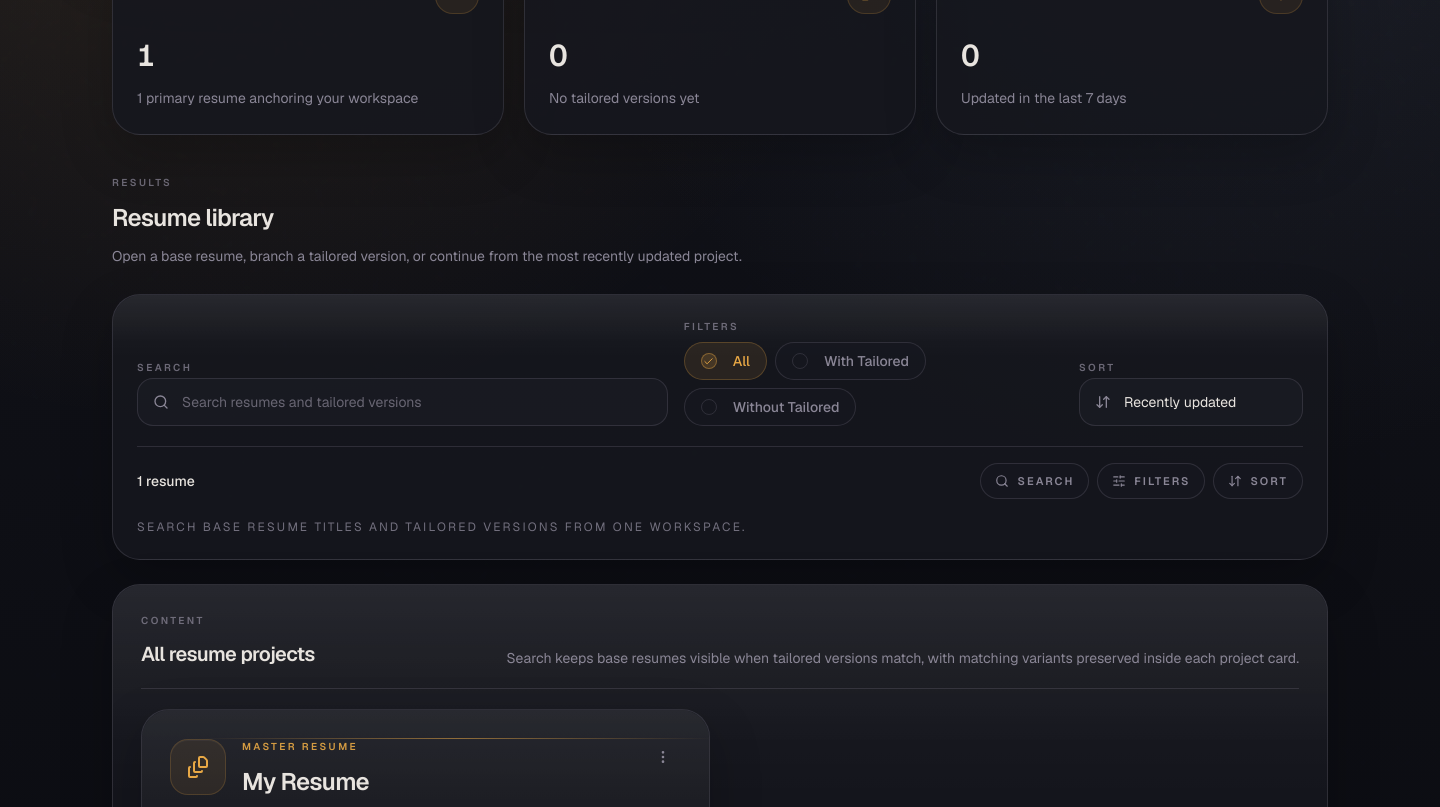
Scenario: DashboardPageClient › heading text reflects active controls › shows Filtered resume projects when sort is non-default
(page scrolled)
Step 1. Select "Title A-Z" in the dropdown labelled "Sort" → (1191, 402), box [1079, 378, 1303, 426]
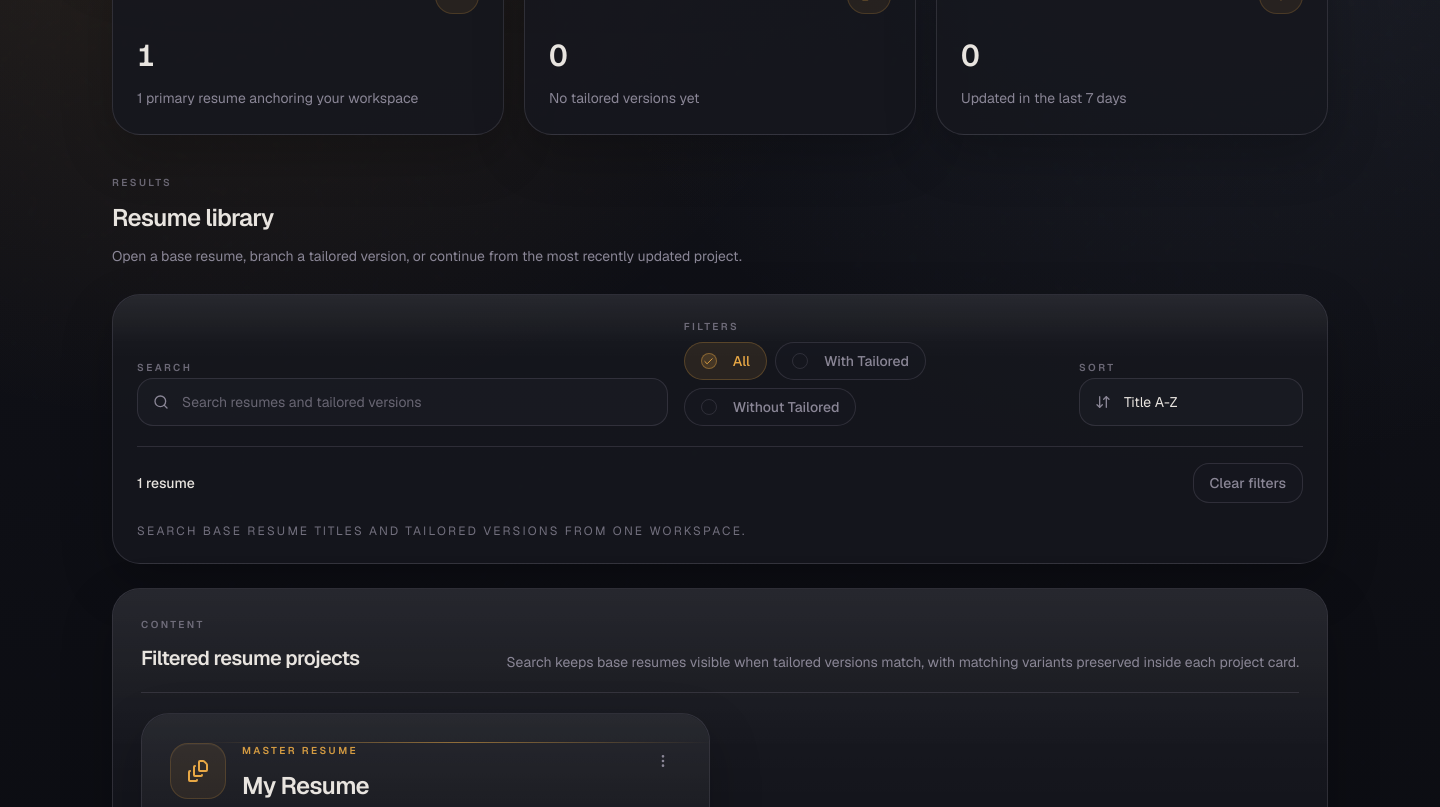
Expected: the heading "Filtered resume projects" is shown, [141, 644, 360, 672]
